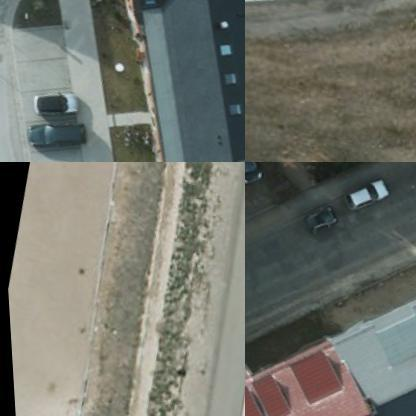car: (288, 197, 338, 247), (336, 169, 386, 218), (23, 116, 84, 156), (24, 84, 78, 123)
